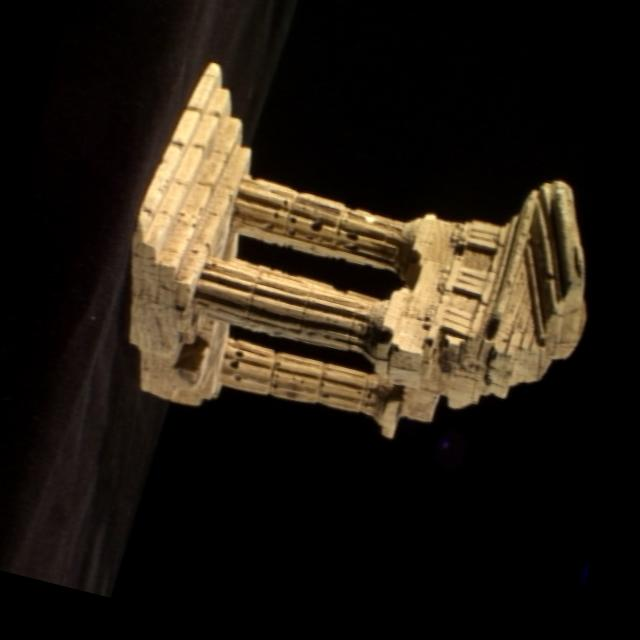Instance-Segmentation: (129, 62, 584, 437)
